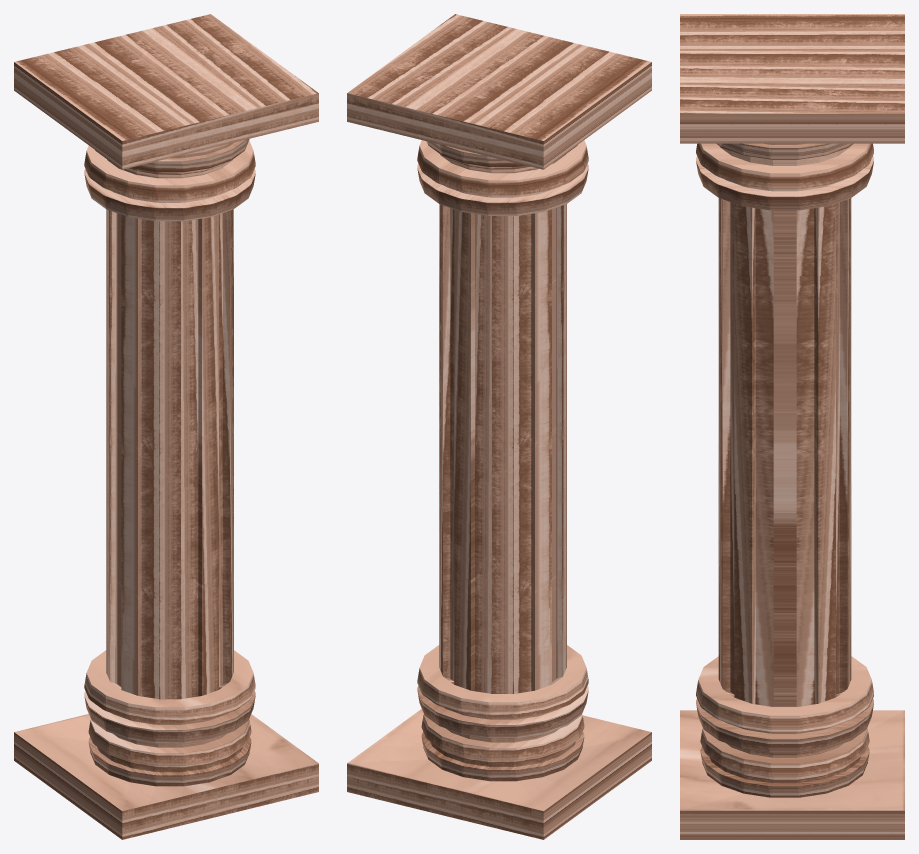
File: PilarCorregido.fbx
3 renders of one model, left to right at view 1: azimuth 30°, elevation 25°; view 2: azimuth 150°, elevation 25°; view 3: azimuth 270°, elevation 25°, orthographic. The views are drawn at different scales.
Parts seen in each view (by area): view 1: Pilar; view 2: Pilar; view 3: Pilar.
Part boxes in pixels (x1=…): Pilar: x1=14, y1=14, x2=318, y2=839; Pilar: x1=347, y1=14, x2=651, y2=839; Pilar: x1=680, y1=14, x2=904, y2=839.
Size of the model in its own units: 94.91 by 322 by 90.41.
Materials: 1 (1 with a texture image).
